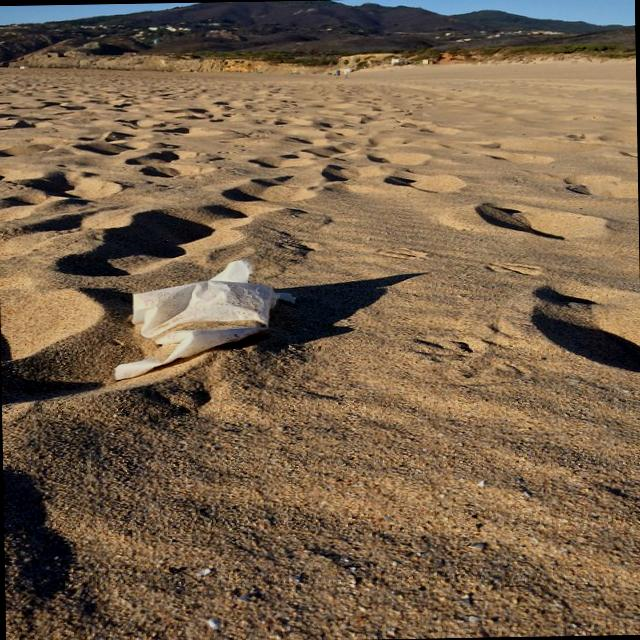Trash: (110, 252, 296, 380)
